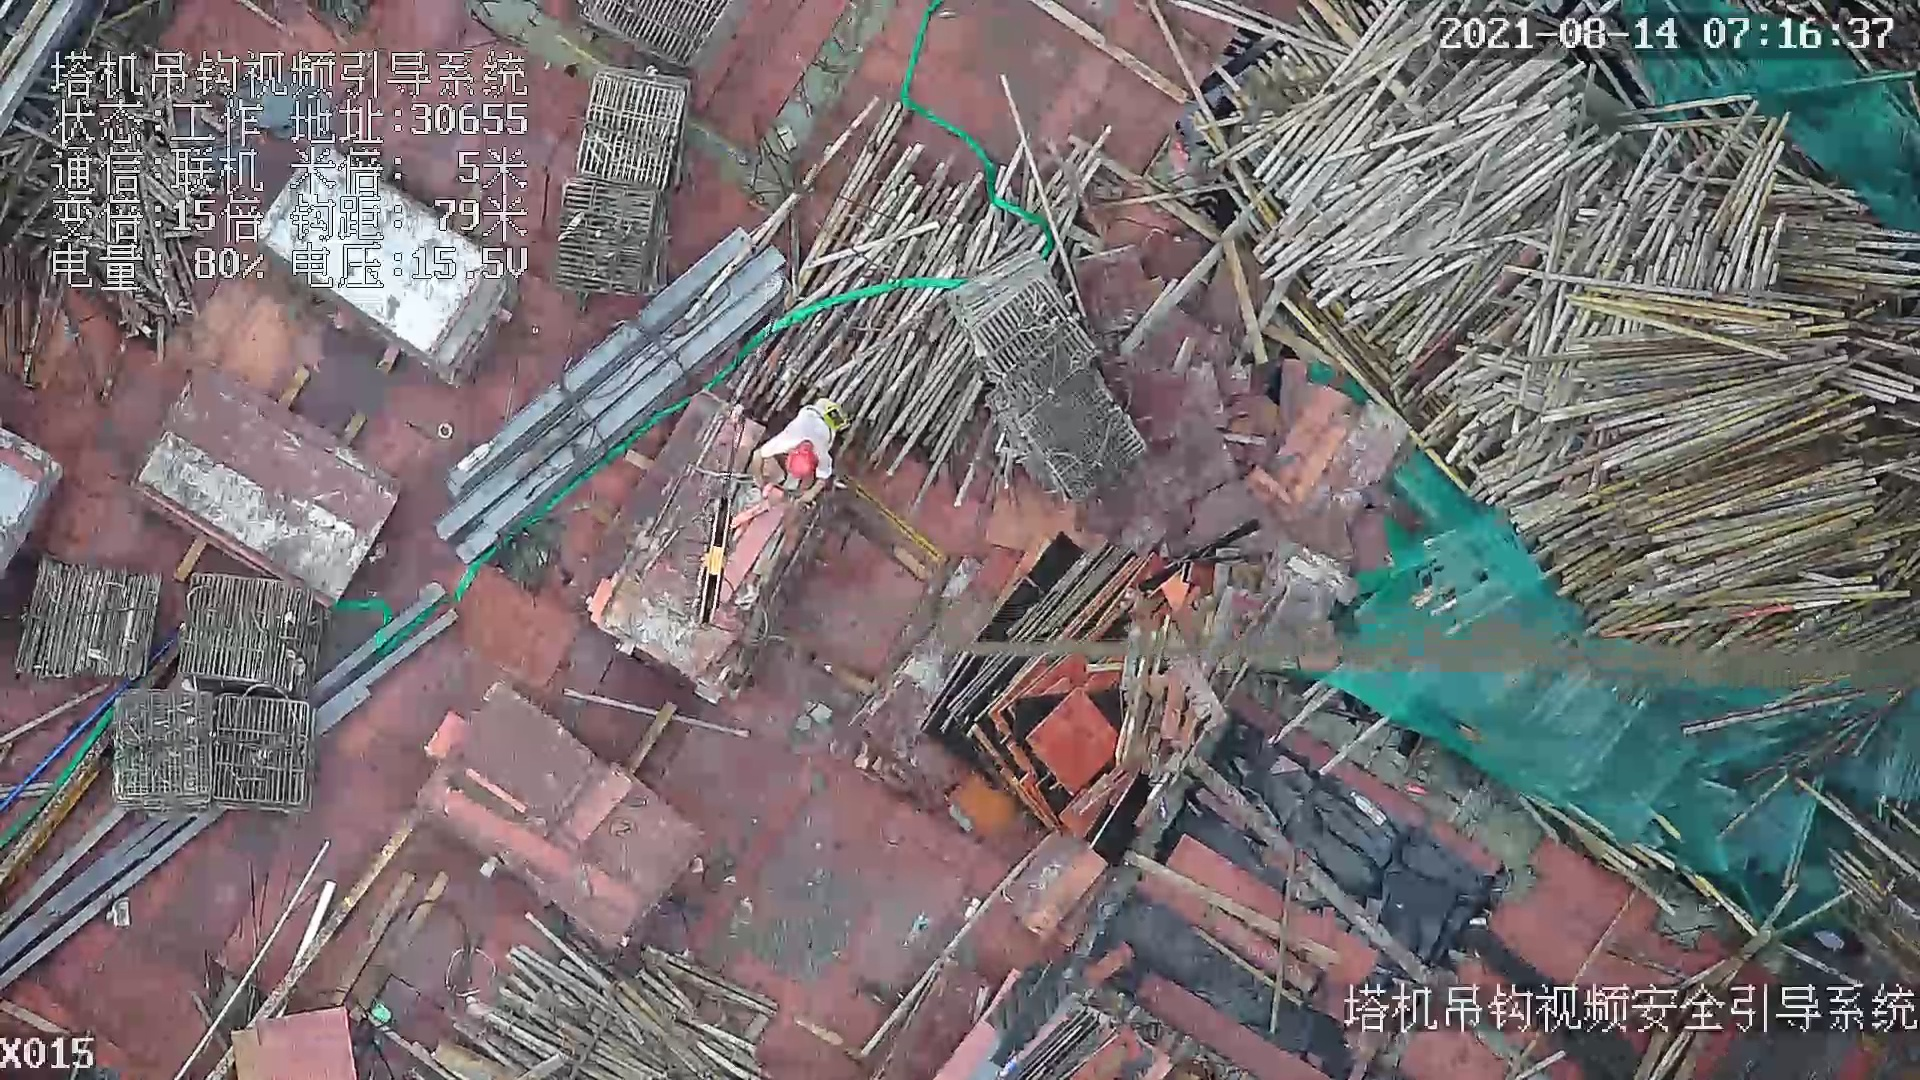helmet: (775, 439, 826, 480)
hook: (685, 495, 732, 633)
person: (762, 394, 831, 512)
